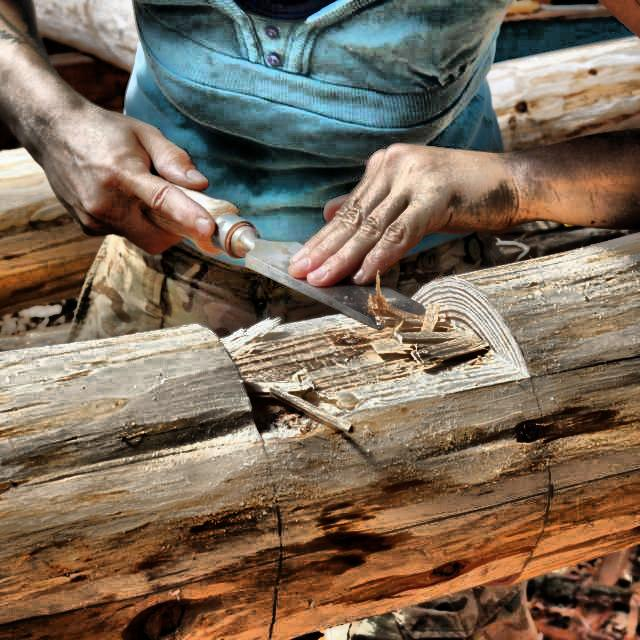knife: (162, 176, 437, 332)
